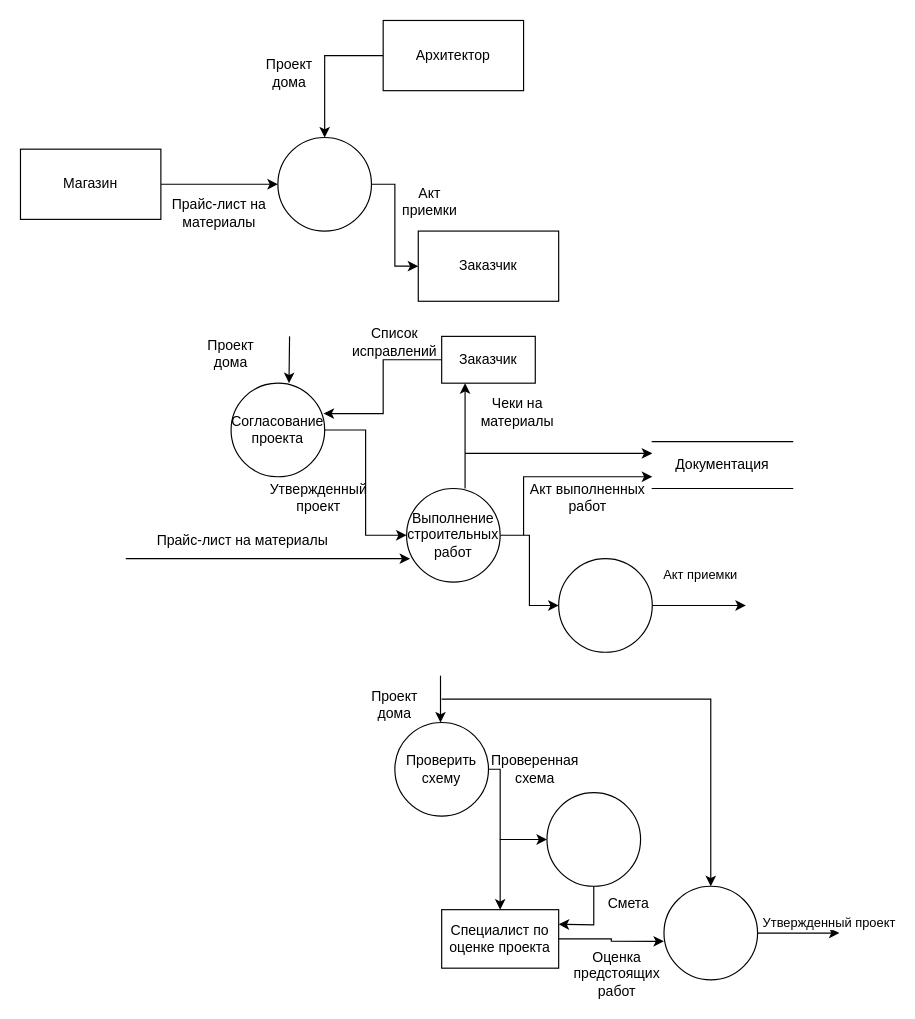
The diagram is 915 pixels wide and 1019 high, and some of its shapes have lost their labels. Here are the shapes that lost their labels. From the top down, the centre of each, then its label:
At (324,183): "Построить дом".
At (605,605): "Сдача работ".
At (593,839): "Составить смету".
At (710,932): "Утвердить проект".
